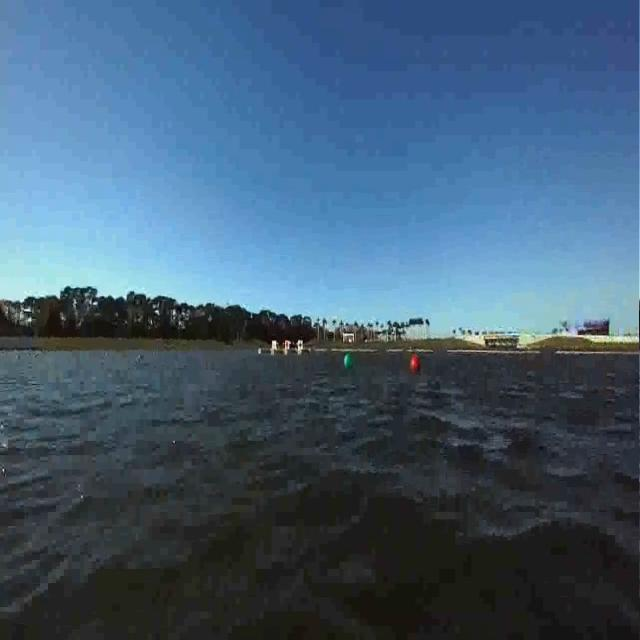green-buoy: (344, 352, 354, 370)
red-buoy: (411, 354, 421, 372)
